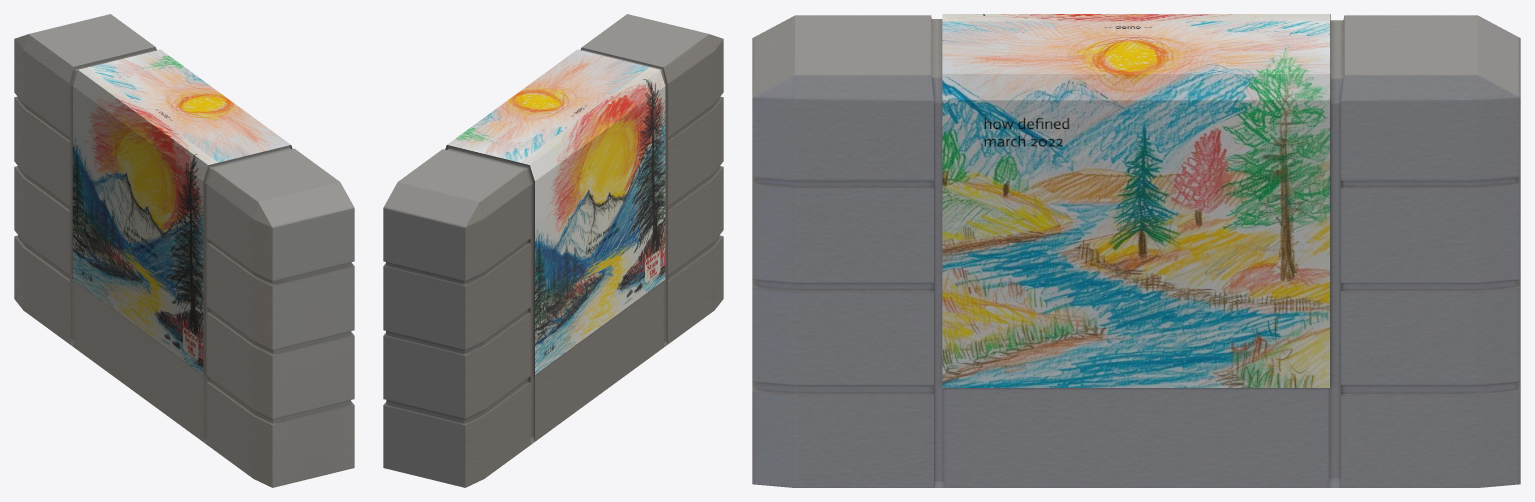
Rendered from CARTRIDGE6.glb.
The picture shows the model from 3 angles, left to right: view 1: azimuth 30°, elevation 25°; view 2: azimuth 150°, elevation 25°; view 3: azimuth 270°, elevation 25°; orthographic projection. The views are drawn at different scales.
Parts seen in each view (by area): view 1: Cart, Tag; view 2: Cart, Tag; view 3: Cart, Tag.
Boxes of the visible parts, x1=… form: Cart: x1=14, y1=14, x2=354, y2=487; Tag: x1=72, y1=49, x2=290, y2=374; Cart: x1=383, y1=14, x2=723, y2=487; Tag: x1=447, y1=49, x2=665, y2=374; Cart: x1=752, y1=15, x2=1520, y2=487; Tag: x1=942, y1=14, x2=1330, y2=387.
Bounding box in the file's own units: 0.7073 × 2.01 × 3.4.
Materials: 2 (2 with a texture image).
